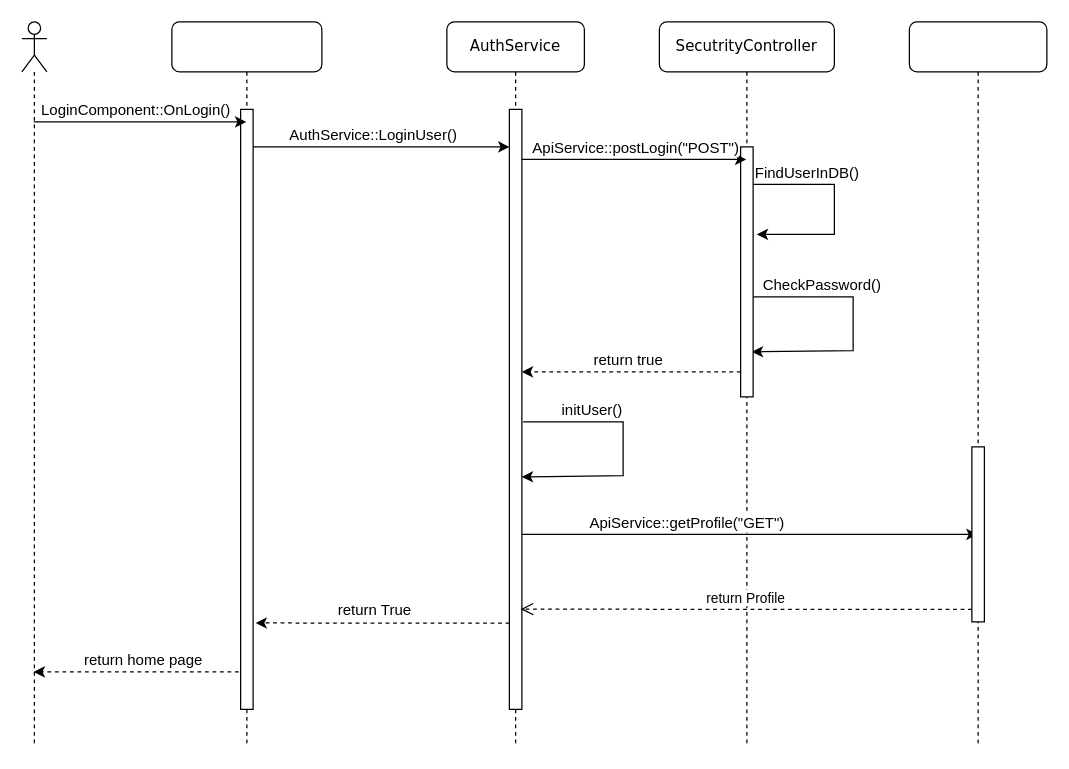
Image size: 1069x769. Some labels were removed from this diagram. Here are the shapes that lost their labels. From the top down, the box of each, then its label:
(171, 21, 322, 747): LoginComponent
(908, 21, 1047, 747): ProfileController
